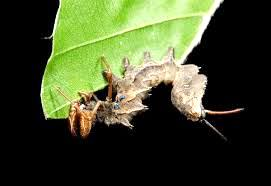Lobster Moth: (83, 55, 232, 138)
